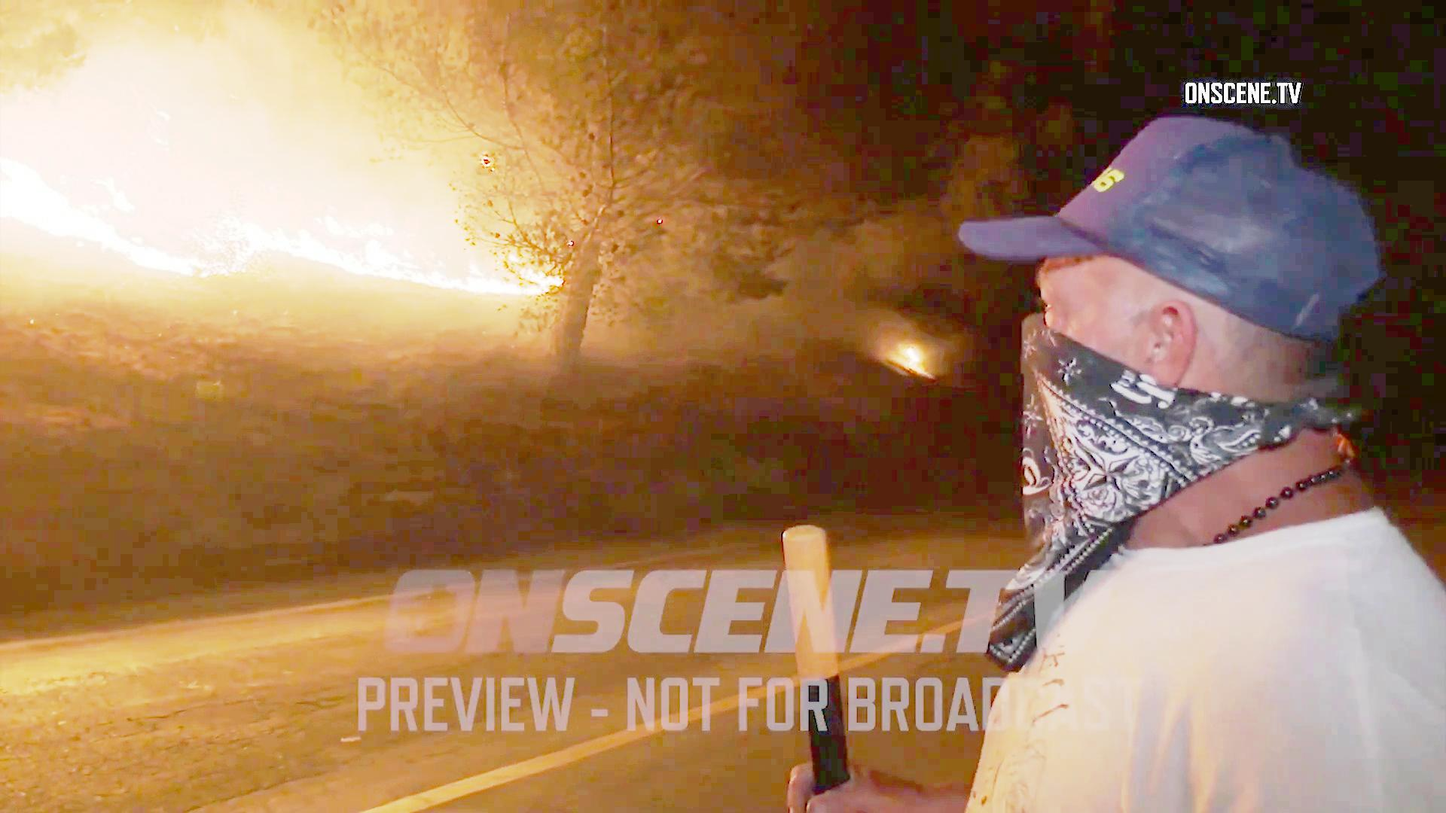fire: (0, 153, 239, 285)
